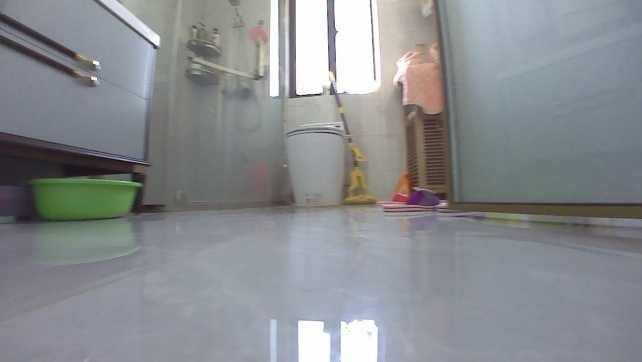door_anno: (429, 0, 640, 221)
slipper: (378, 185, 447, 213)
toilet: (284, 118, 348, 208)
